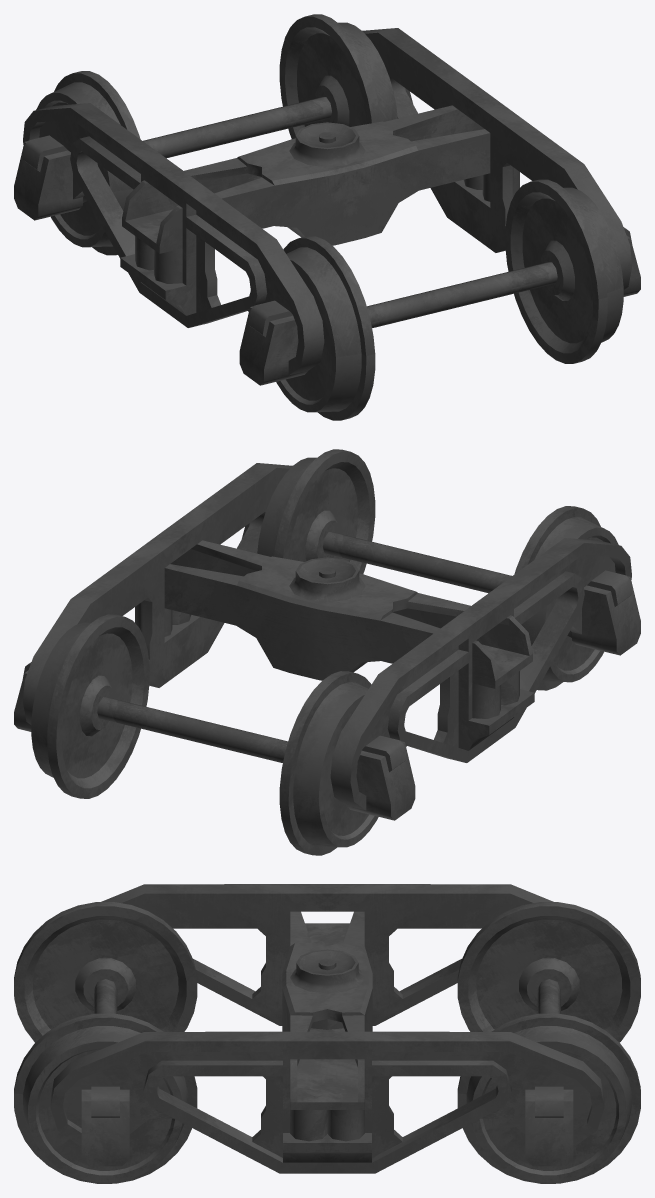
The model's file is Bogie.fbx.
3 renders of one model, top to bottom at view 1: azimuth 30°, elevation 25°; view 2: azimuth 150°, elevation 25°; view 3: azimuth 270°, elevation 25°, orthographic.
Visible parts, largest first — view 1: Куб.009, Циліндр.005, Bogie, Циліндр.008; view 2: Куб.009, Циліндр.008, Bogie, Циліндр.005; view 3: Куб.009, Циліндр.005, Циліндр.008, Bogie.
Part boxes in pixels (<box>): Куб.009: <box>14,28,640,385</box>; Циліндр.005: <box>276,179,623,420</box>; Bogie: <box>122,105,519,283</box>; Циліндр.008: <box>36,14,397,255</box>; Куб.009: <box>14,463,640,820</box>; Циліндр.008: <box>31,614,378,855</box>; Bogie: <box>135,540,532,718</box>; Циліндр.005: <box>257,449,618,690</box>; Куб.009: <box>50,884,604,1173</box>; Циліндр.005: <box>14,902,197,1183</box>; Циліндр.008: <box>457,902,640,1183</box>; Bogie: <box>282,911,372,1141</box>.
Size of the model in its own units: 248 by 106 by 364.
